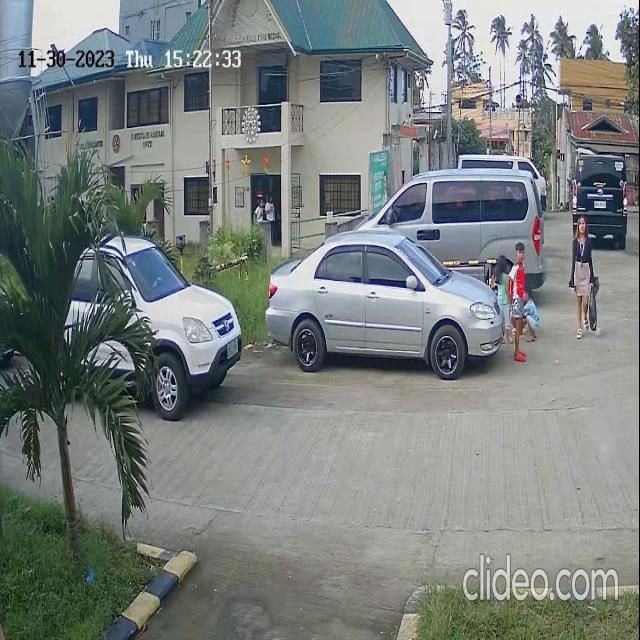garbage: (585, 278, 603, 333)
person: (569, 213, 591, 339), (508, 235, 528, 368), (493, 254, 510, 312), (524, 288, 538, 334)
